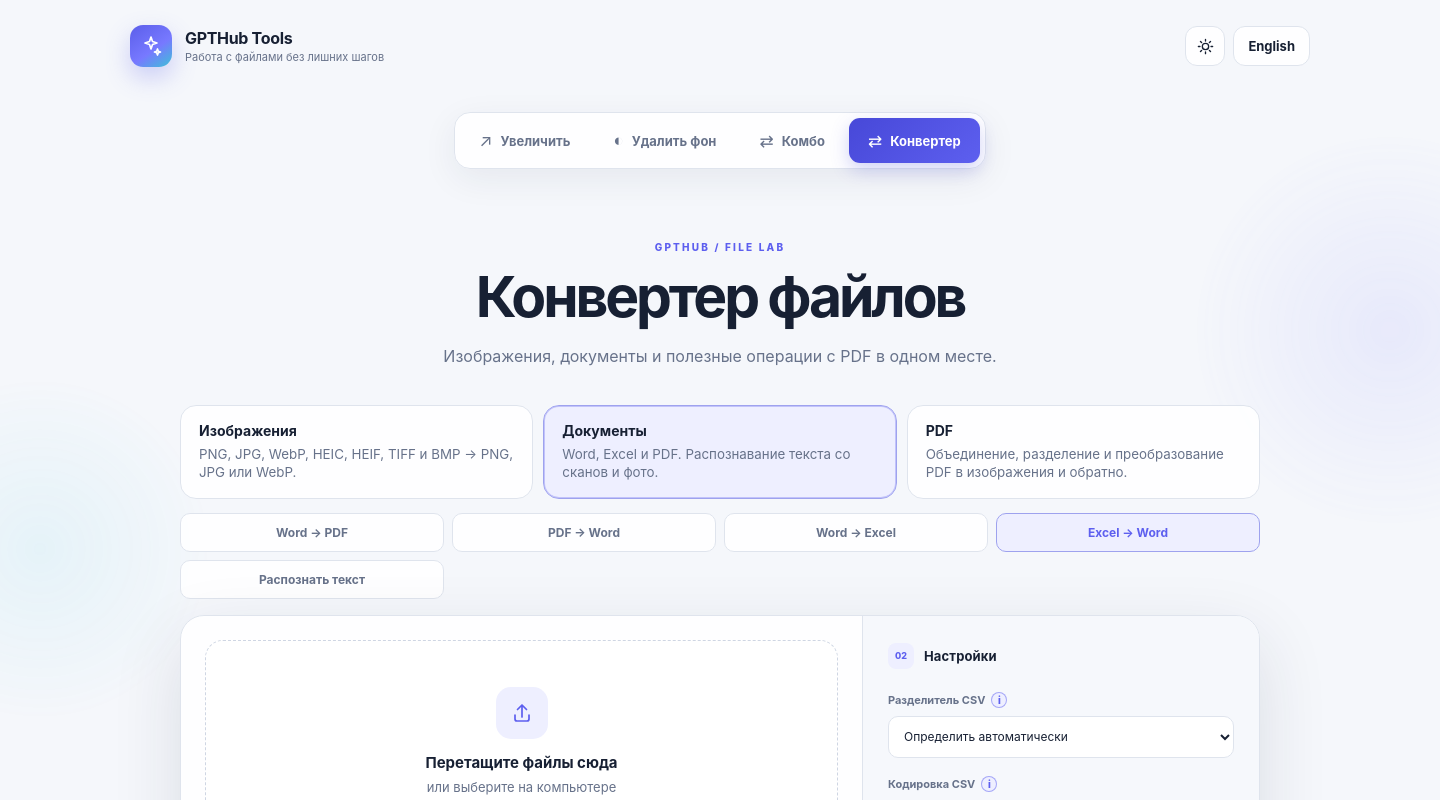
Test case: App › restores and localizes document conversion warnings
The image size is (1440, 800).
Click the button "English".
click(1272, 46)  # box [1233,26,1310,66]
(page scrolled)
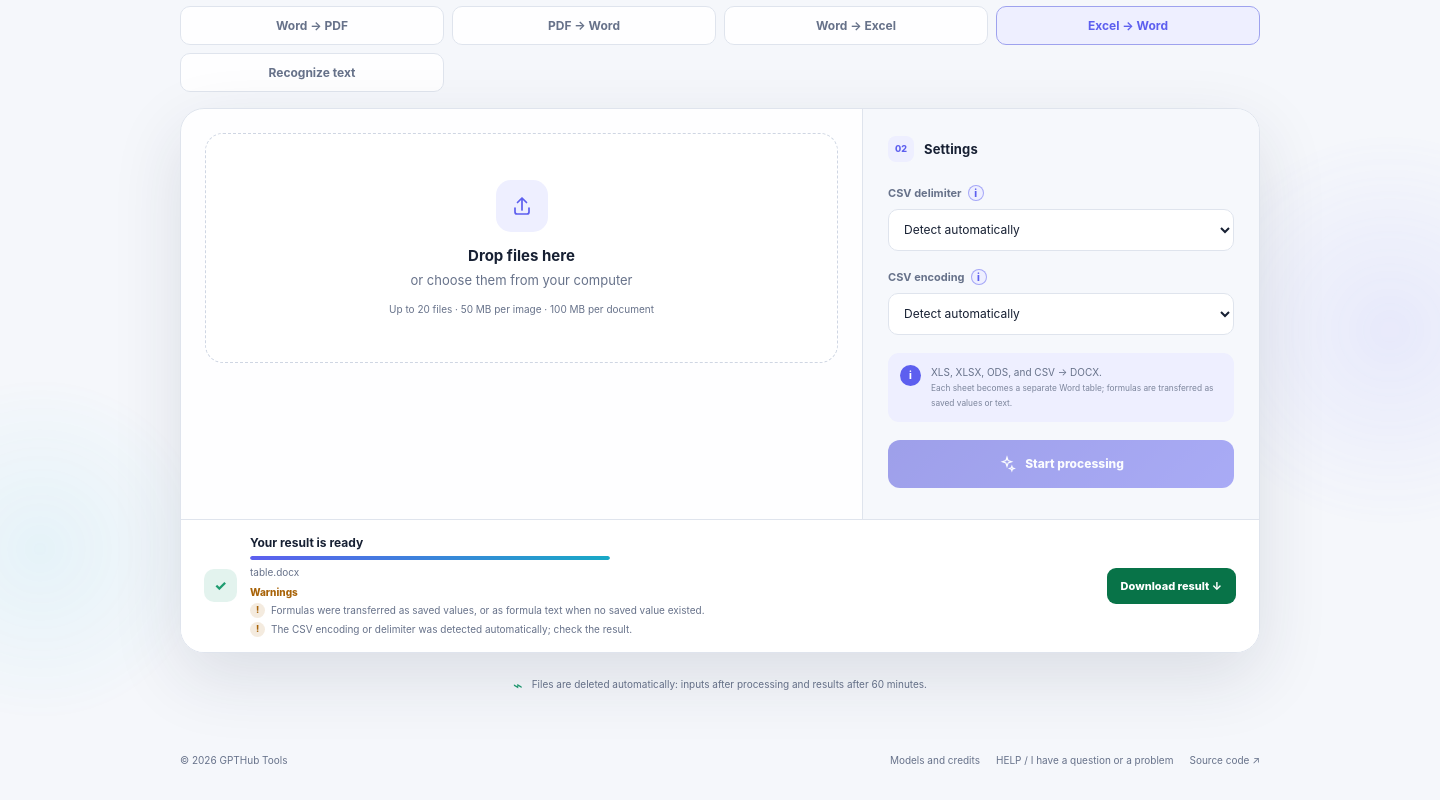
Expected: the message labelled "Warnings" shows "Formulas were transferred as saved values, or as formula text when no saved value existed.", [271,604,704,616]
